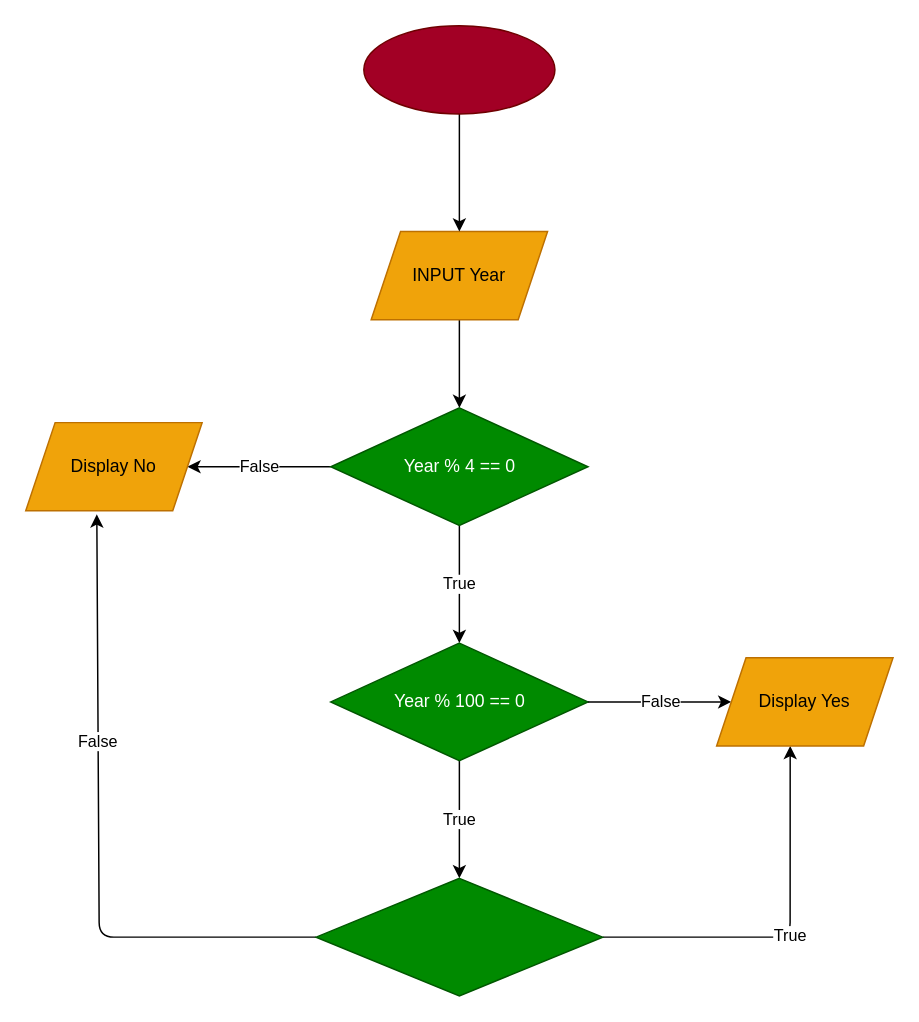
This 919x1022 diagram has some shape labels left out. Each missing label, with the centre of its shape:
"START" goes at pixel 458 69.
"Year % 400 == 0" goes at pixel 459 936.
